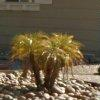Tree: (14, 32, 87, 78)
